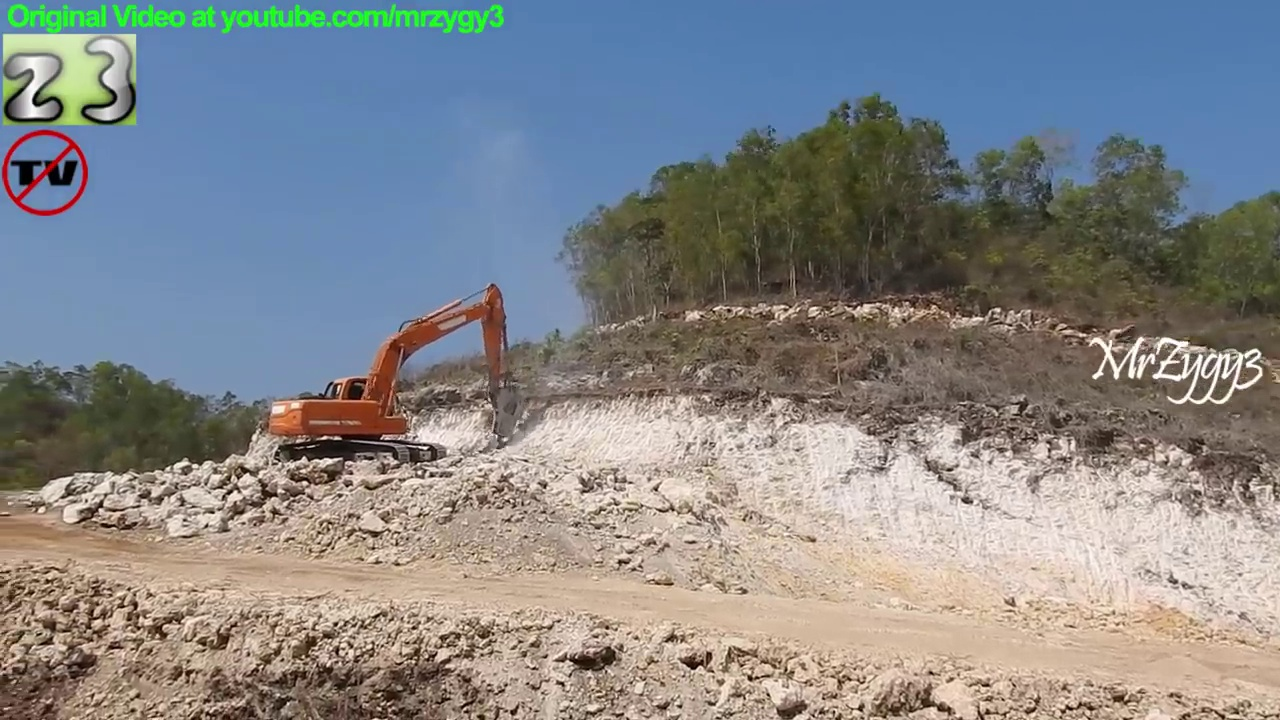excavator breaker: (258, 279, 527, 474)
